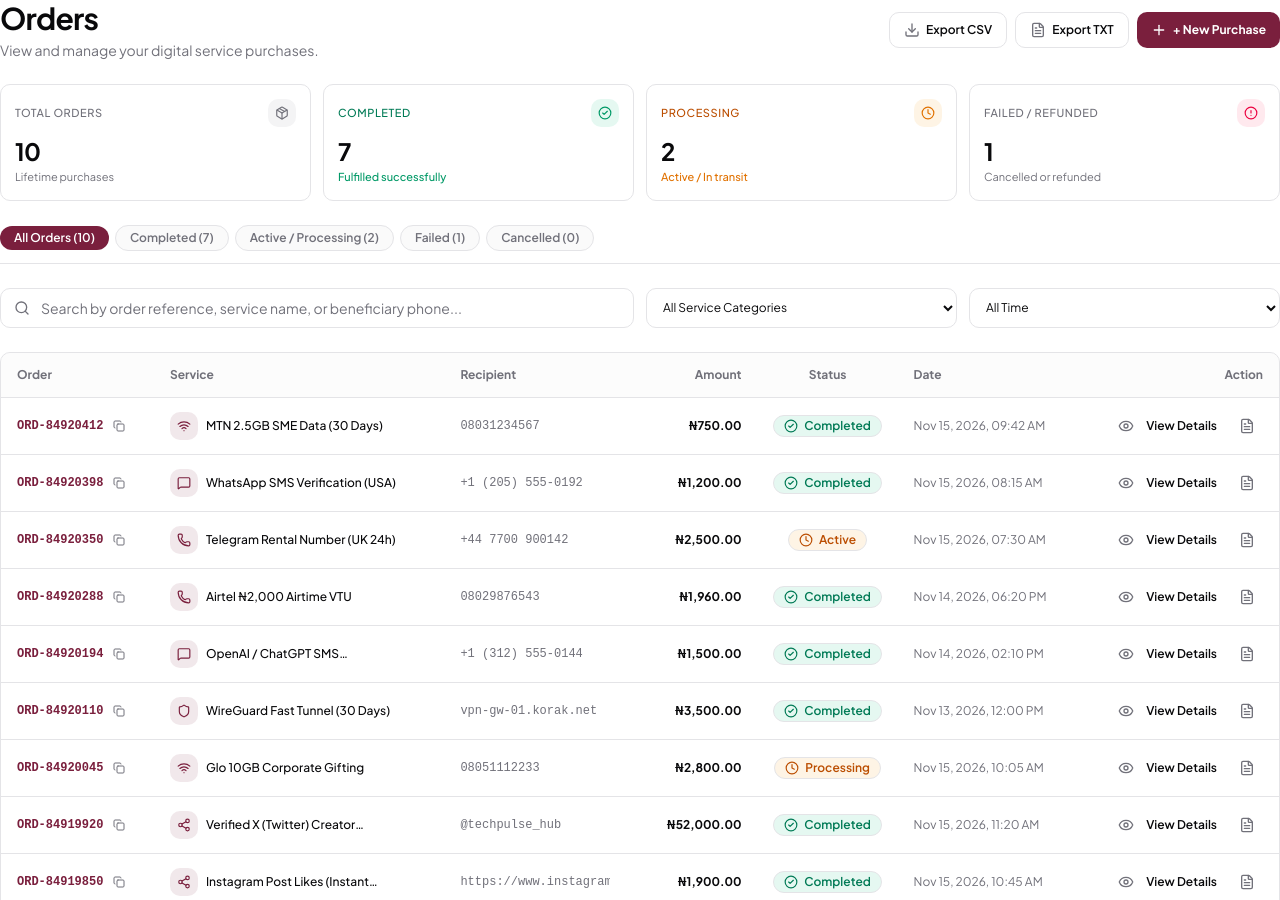
Test: OrdersView Component › opens order detail modal on row click
The image size is (1280, 900).
# Click on first "View Details" button
Click the button "View Details" in the row of "ORD-84920412".
click(1168, 426)  # box [1110,412,1225,440]
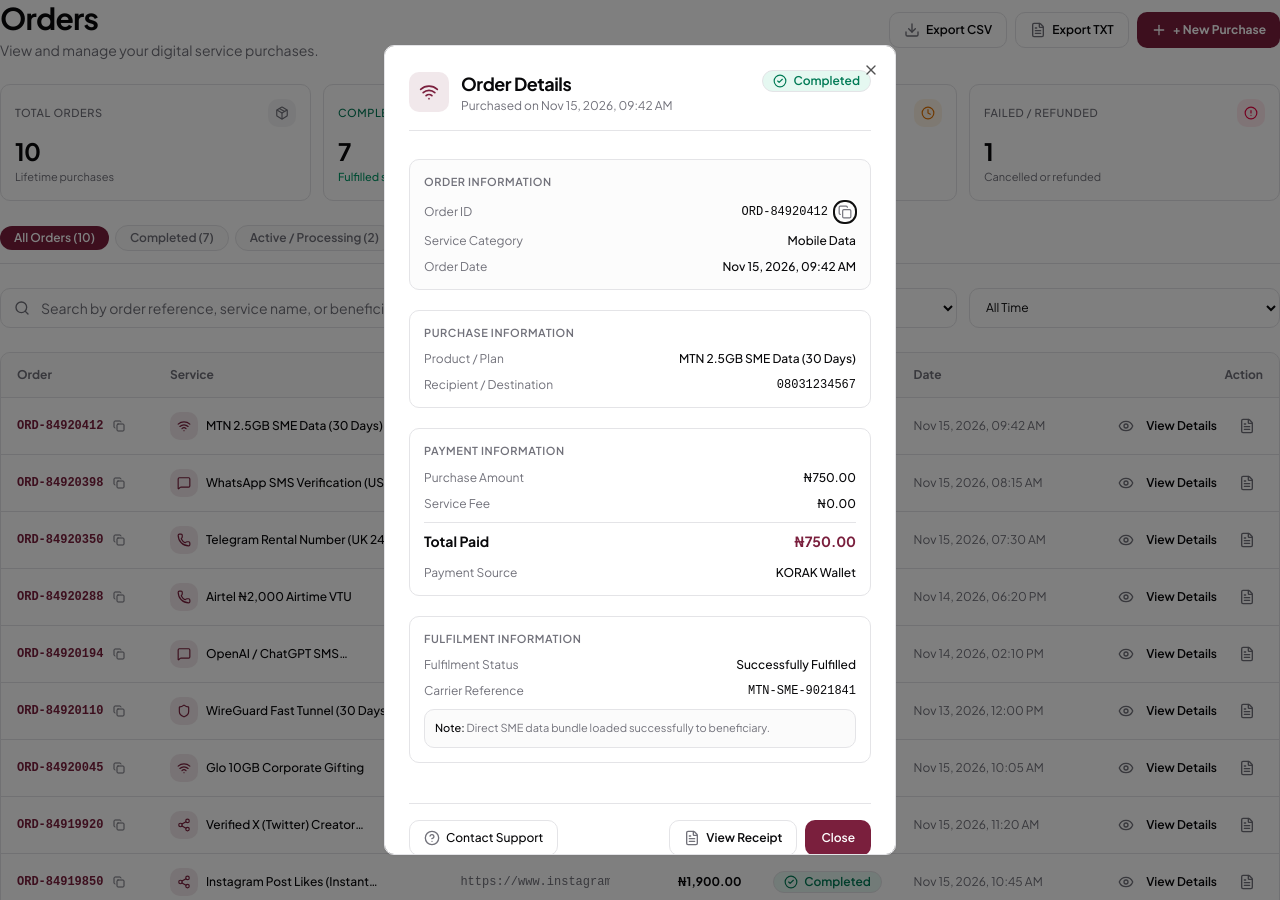
Expected: the dialog with test id "order-detail-modal" is shown, [384,45,896,855]
